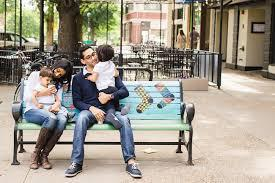Person: (77, 49, 139, 179), (22, 61, 68, 168)
